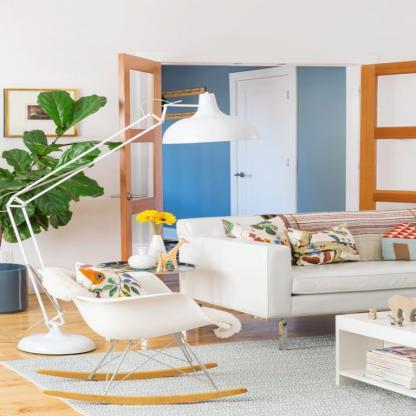chair: (29, 264, 260, 414)
door: (118, 59, 170, 267), (234, 70, 291, 218)
light: (10, 84, 264, 361)
sofa: (170, 212, 416, 348)
table: (324, 309, 416, 402)
